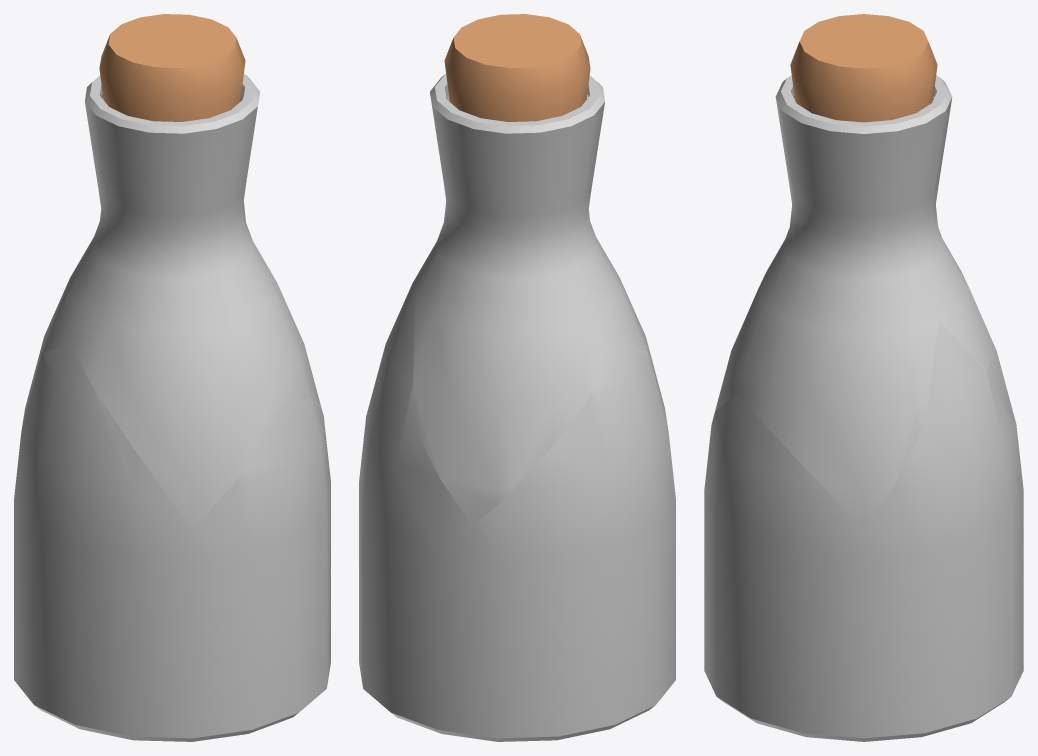
File: brokenbottle.fbx
3 renders of one model, left to right at view 1: azimuth 30°, elevation 25°; view 2: azimuth 150°, elevation 25°; view 3: azimuth 270°, elevation 25°, orthographic.
Visible parts, largest first — view 1: brokenbottle_small.001, brokenbottle_small.002, brokenbottle_small; view 2: brokenbottle_small.001, brokenbottle_small.002, brokenbottle_small; view 3: brokenbottle_small.001, brokenbottle_small.002, brokenbottle_small.
Part boxes in pixels (x1=…): brokenbottle_small.001: x1=14, y1=345, x2=330, y2=741; brokenbottle_small.002: x1=35, y1=73, x2=319, y2=528; brokenbottle_small: x1=99, y1=14, x2=245, y2=121; brokenbottle_small.001: x1=359, y1=301, x2=675, y2=741; brokenbottle_small.002: x1=377, y1=73, x2=656, y2=525; brokenbottle_small: x1=444, y1=14, x2=590, y2=121; brokenbottle_small.001: x1=704, y1=321, x2=1023, y2=741; brokenbottle_small.002: x1=715, y1=75, x2=1016, y2=527; brokenbottle_small: x1=790, y1=14, x2=937, y2=122.
Size of the model in its own units: 0.1782 by 0.392 by 0.1782.
